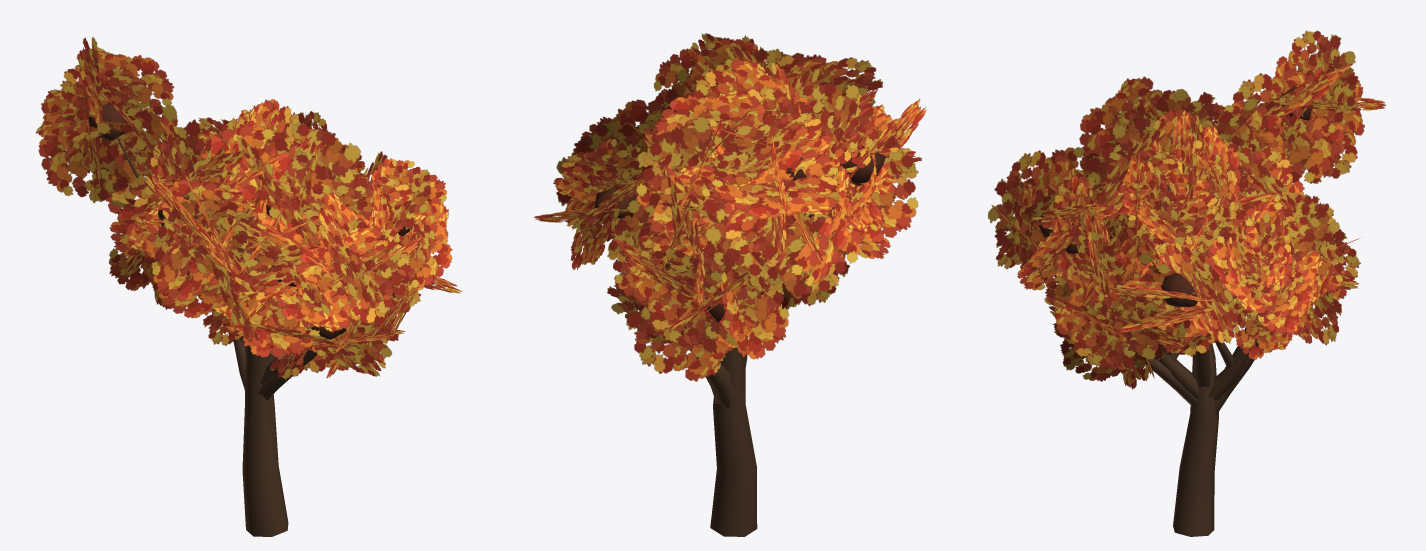
Rendered from nature_giant.glb.
The picture shows the model from 3 angles, left to right: view 1: azimuth 30°, elevation 25°; view 2: azimuth 150°, elevation 25°; view 3: azimuth 270°, elevation 25°; orthographic projection. The views are drawn at different scales.
Visible parts, largest first — view 1: nature_giant; view 2: nature_giant; view 3: nature_giant.
Part boxes in pixels (box(x1,y1,x2,y2)): nature_giant: box(35, 37, 461, 536); nature_giant: box(534, 33, 926, 536); nature_giant: box(988, 30, 1386, 536).
Bounding box in the file's own units: 13.62 × 18.03 × 15.26.
Materials: 3 (1 with a texture image).
